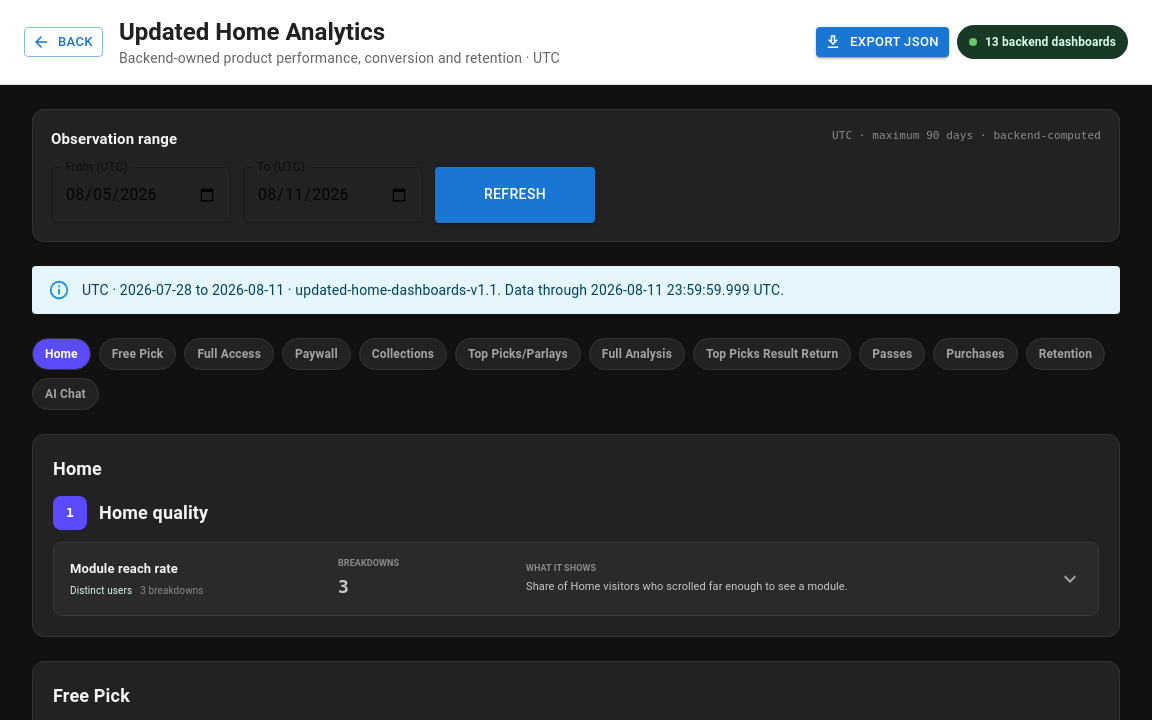
Test: UpdatedHomeAnalyticsDashboard › groups Home quality dimensions under one metric heading
Expected: the text "Module reach rate" is shown once, left=70, top=561, right=178, bottom=576
Expected: the text "3 breakdowns" is shown, left=140, top=583, right=204, bottom=598
What coordinates should you click on to do the following:
click the button with aria-label "Show Module reach rate breakdown"
I would click on:
 (576, 578)
Its box is left=54, top=542, right=1098, bottom=614.
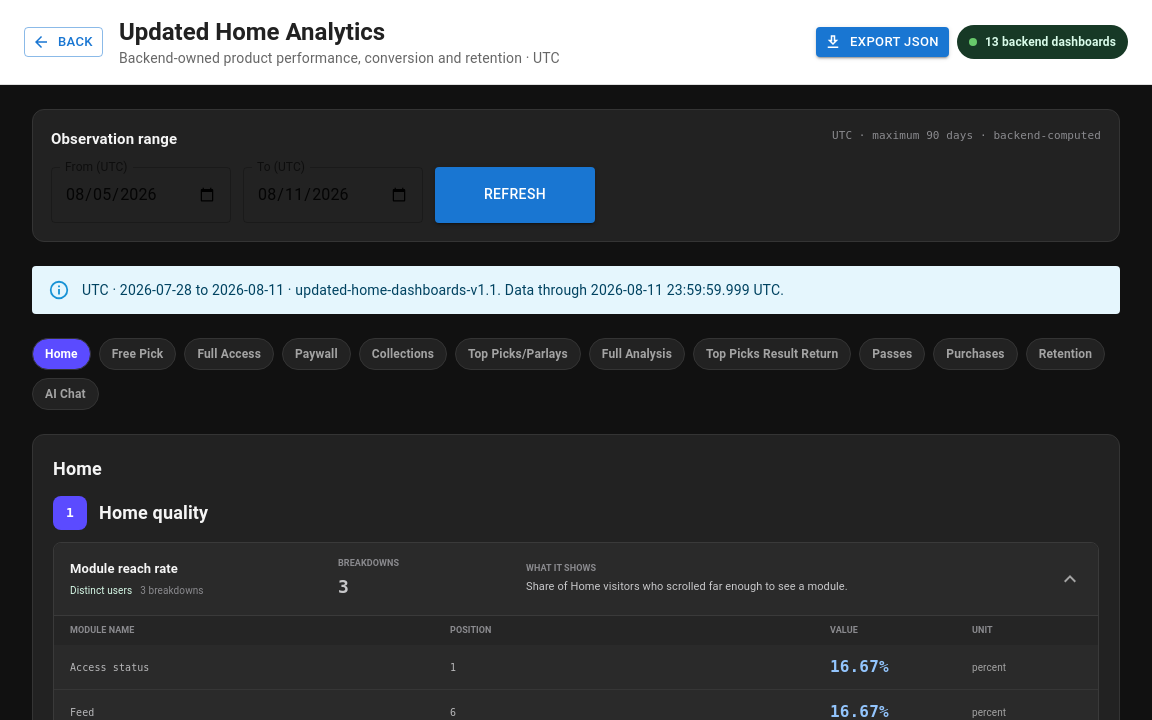
Expected: the button with aria-label "Show Module reach rate breakdown" is expanded, left=54, top=542, right=1098, bottom=614
Expected: the text "MODULE NAME" is shown, left=70, top=624, right=134, bottom=634
Expected: the text "POSITION" is shown, left=450, top=624, right=492, bottom=634
